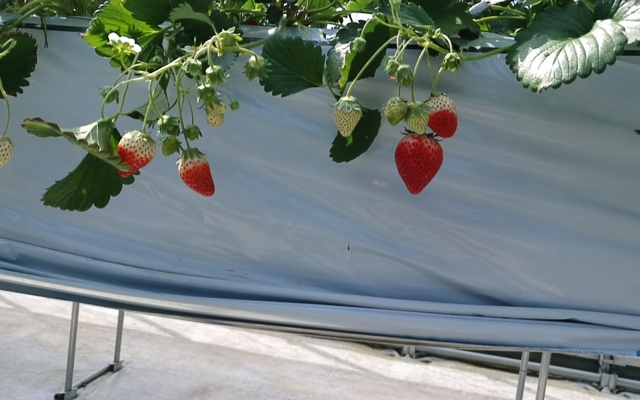GreenStrawberry: (115, 129, 158, 179), (424, 95, 459, 141), (332, 94, 363, 138), (403, 99, 431, 134), (202, 97, 226, 130), (384, 95, 408, 127), (1, 136, 15, 170)
MatureStrawberry: (392, 130, 445, 196), (176, 150, 215, 199)
